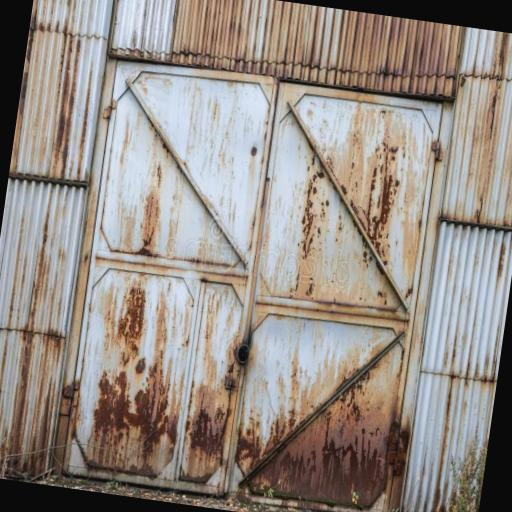segmentation: (295, 59, 473, 286), (238, 340, 467, 512), (335, 10, 461, 101), (90, 362, 176, 464), (48, 34, 83, 178), (283, 202, 317, 298), (116, 283, 148, 355), (188, 399, 229, 455), (52, 382, 74, 473), (139, 188, 162, 252), (157, 166, 162, 185)
